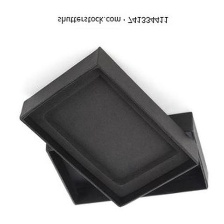foam_box: (14, 43, 202, 210), (41, 108, 211, 210)
